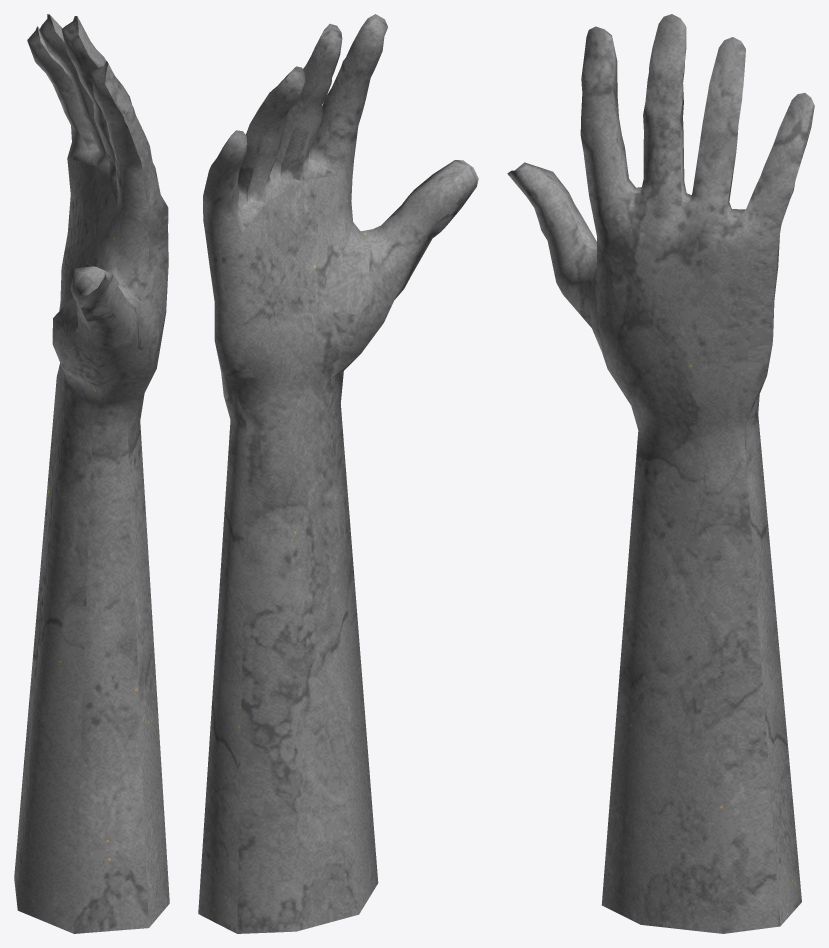
Rendered from hand.fbx.
3 views of the same model, side by side, from view 1: azimuth 30°, elevation 25°; view 2: azimuth 150°, elevation 25°; view 3: azimuth 270°, elevation 25° (orthographic). The views are drawn at different scales.
Visible parts, largest first — view 1: Plane005; view 2: Plane005; view 3: Plane005.
Boxes of the visible parts, x1,y1,x2,y2 form: Plane005: (14,14,169,933); Plane005: (198,14,478,933); Plane005: (507,14,814,933).
Size of the model in its own units: 209 by 1043 by 333.
